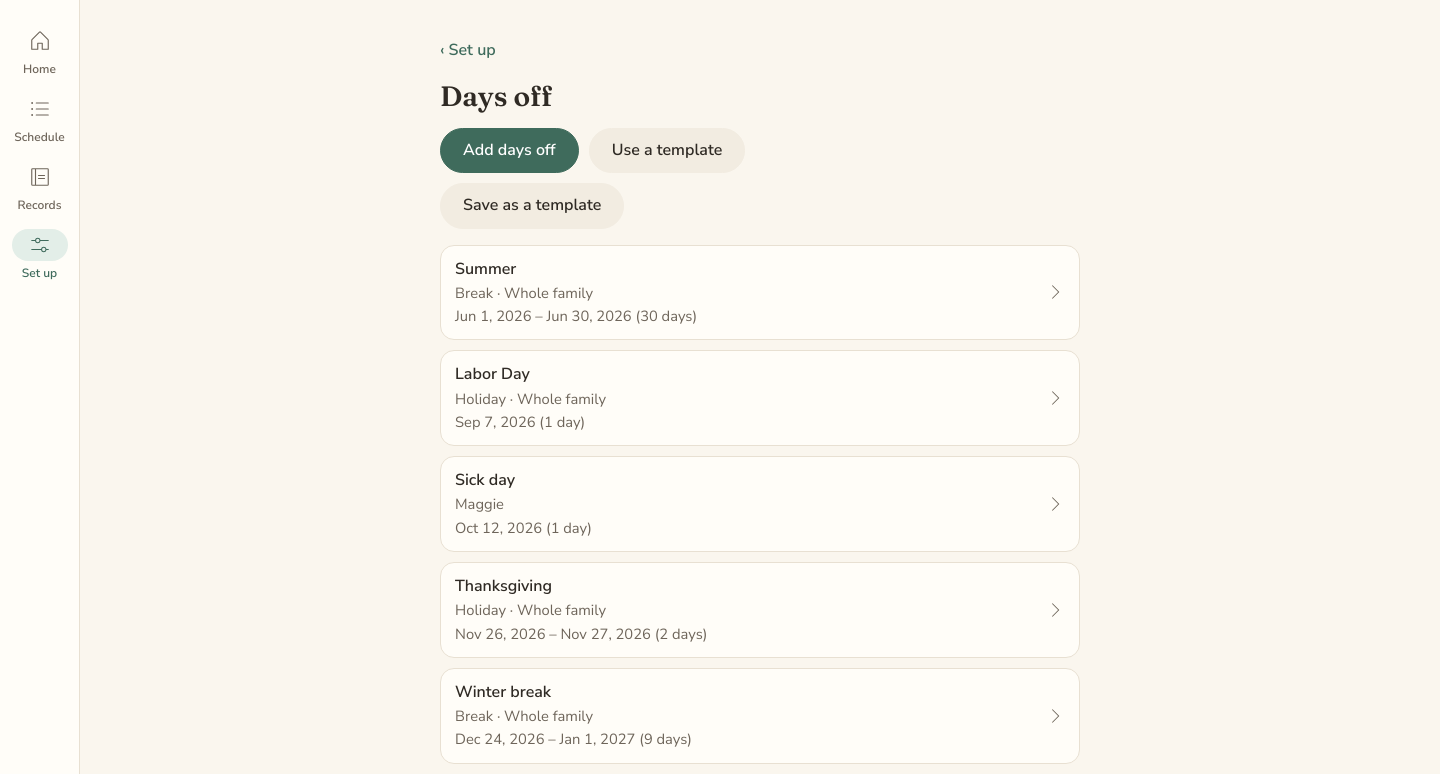
Test: Save as a template (S5-07) › saves the year's family-wide days off as offsets, keeping kind and label, and says how many per-child ones were left out
Expected: the heading "Days off" is shown, [440, 80, 552, 112]
Click the button "Save as a template": (532, 206) [440, 183, 624, 229]
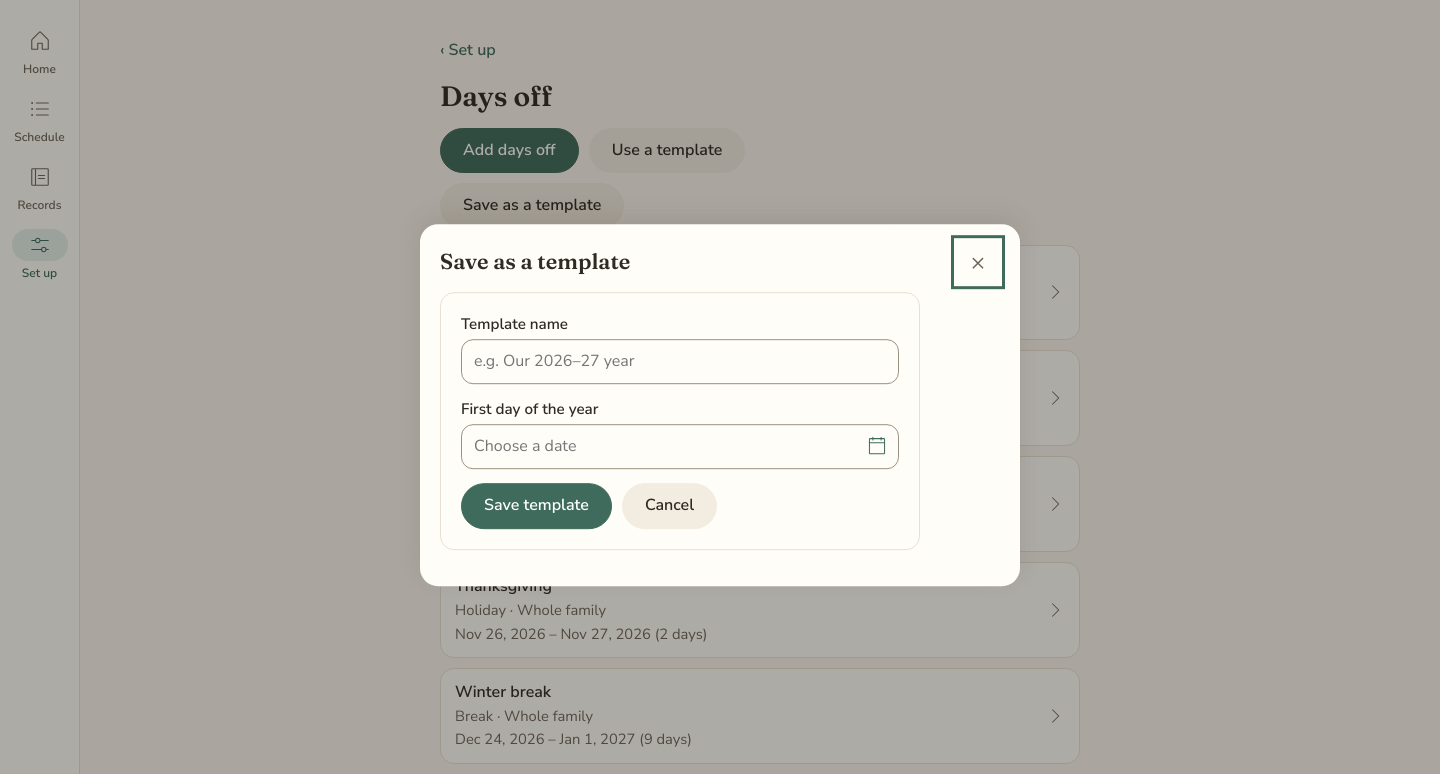
In the field labelled "Template name": (680, 362) [461, 339, 899, 384], type "  Our year "
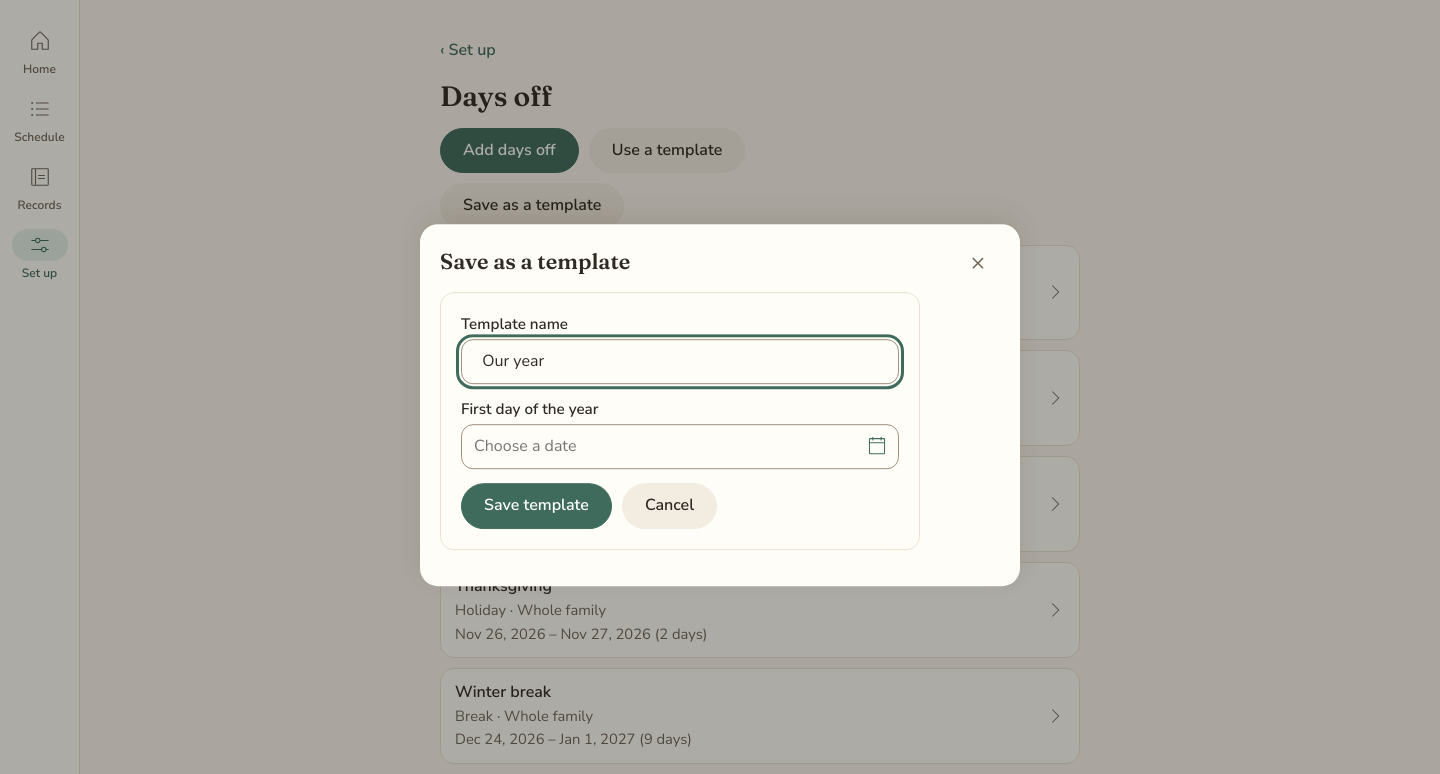
In the field labelled "First day of the year": (680, 447) [461, 424, 899, 470], type "2026-08-17"
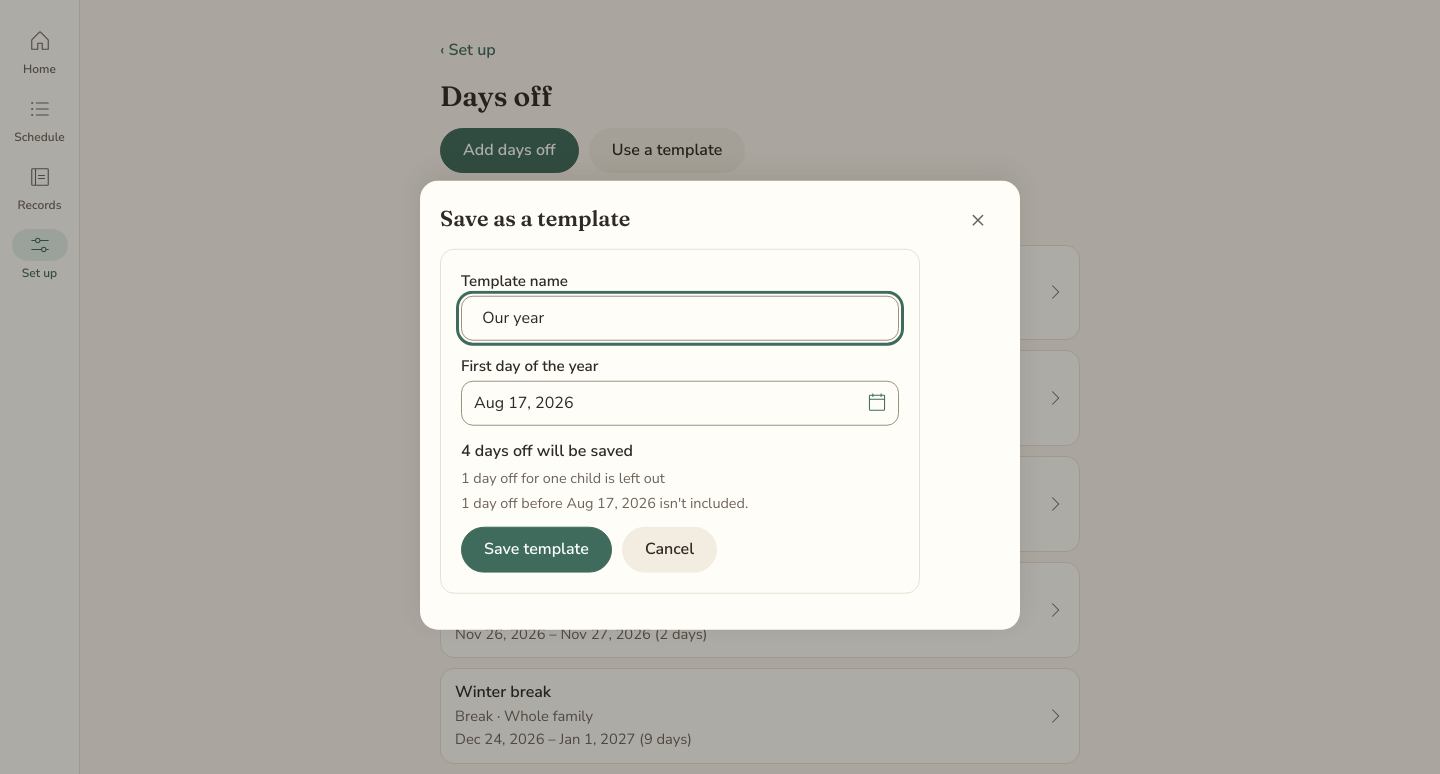
Result: the text "4 days off will be saved" is shown at [461, 440, 633, 462]
Result: the text "1 day off for one child is left out" is shown at [461, 467, 665, 487]
Click the button "Save template": (536, 550) [461, 527, 612, 572]
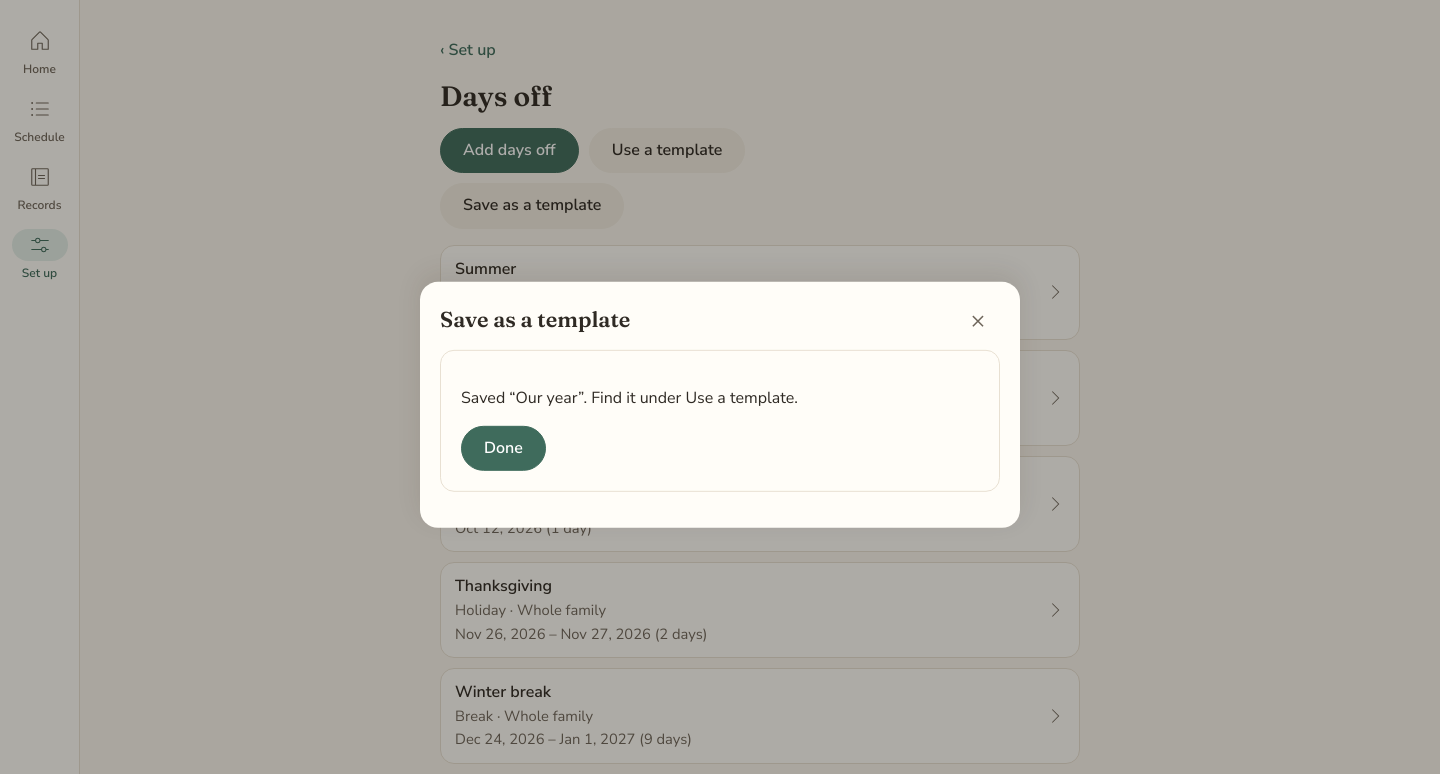
Result: the text "Saved “Our year”. Find it under Use a template." is shown at [461, 387, 798, 409]
Click the button "Done": (503, 449) [461, 426, 546, 471]
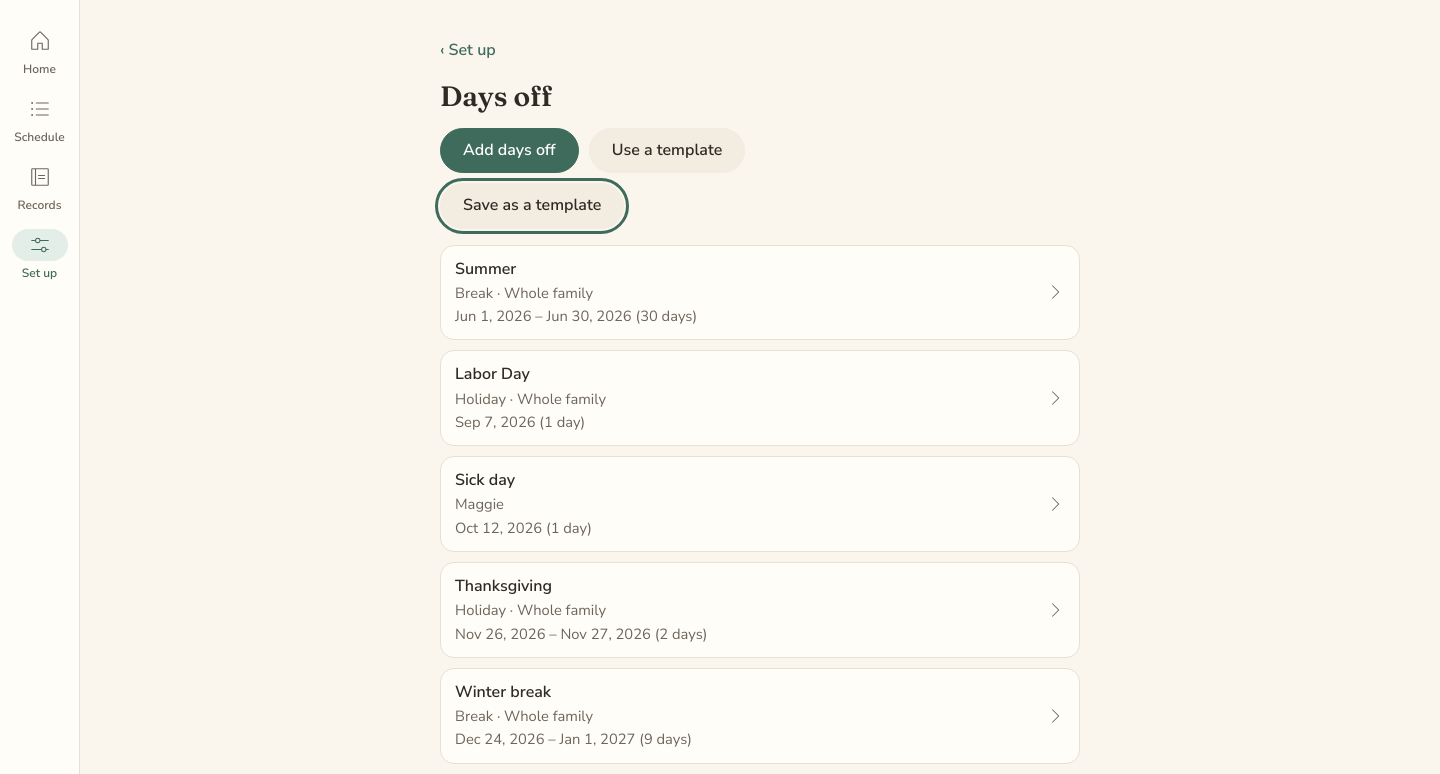
Result: the message "Saved “Our year”. Find it under Use a template. Done" is gone
